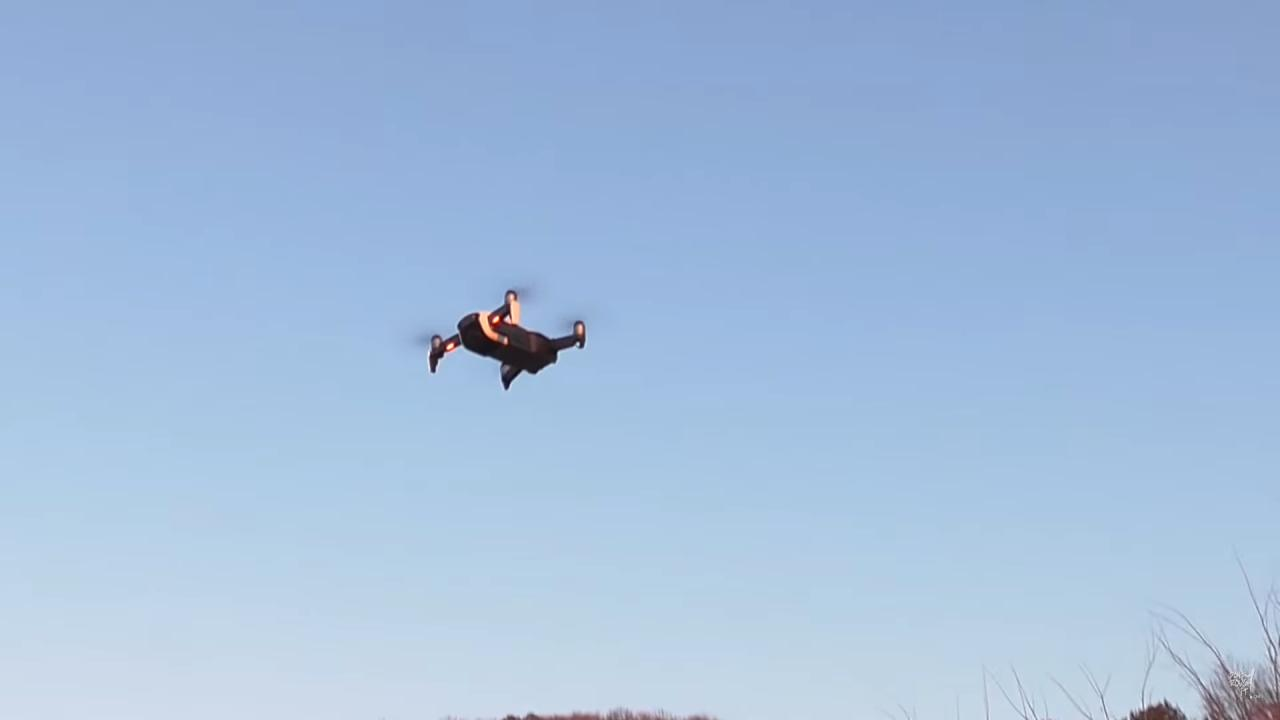Drone: (391, 265, 613, 409)
